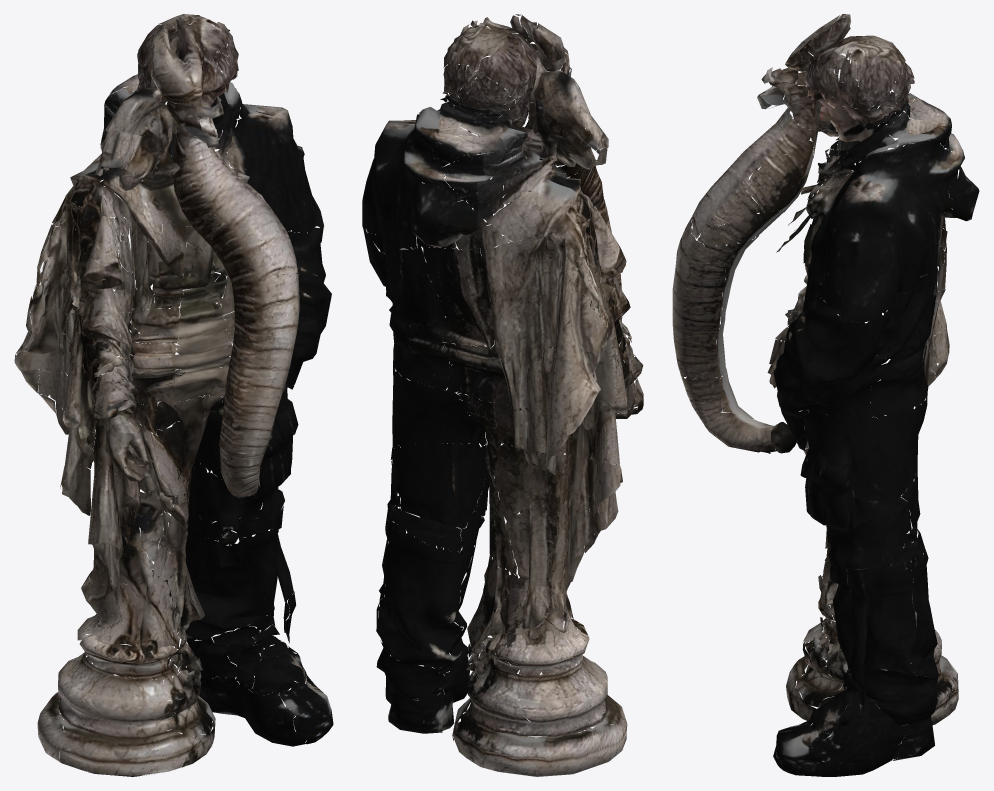
File: bishop_black.glb
The picture shows the model from 3 angles, left to right: view 1: azimuth 30°, elevation 25°; view 2: azimuth 150°, elevation 25°; view 3: azimuth 270°, elevation 25°; orthographic projection. The views are drawn at different scales.
Parts seen in each view (by area): view 1: tripo_node_f0495bd7-0585-4284-9df3-728c0058496d; view 2: tripo_node_f0495bd7-0585-4284-9df3-728c0058496d; view 3: tripo_node_f0495bd7-0585-4284-9df3-728c0058496d.
Boxes of the visible parts, x1,y1,x2,y2 form: tripo_node_f0495bd7-0585-4284-9df3-728c0058496d: [14, 14, 333, 776]; tripo_node_f0495bd7-0585-4284-9df3-728c0058496d: [362, 14, 643, 776]; tripo_node_f0495bd7-0585-4284-9df3-728c0058496d: [672, 14, 979, 776].
Bounding box in the file's own units: 0.3879 × 1 × 0.3954.
1 material, 1 textured.
